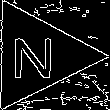N_N: (14, 30, 61, 81)
